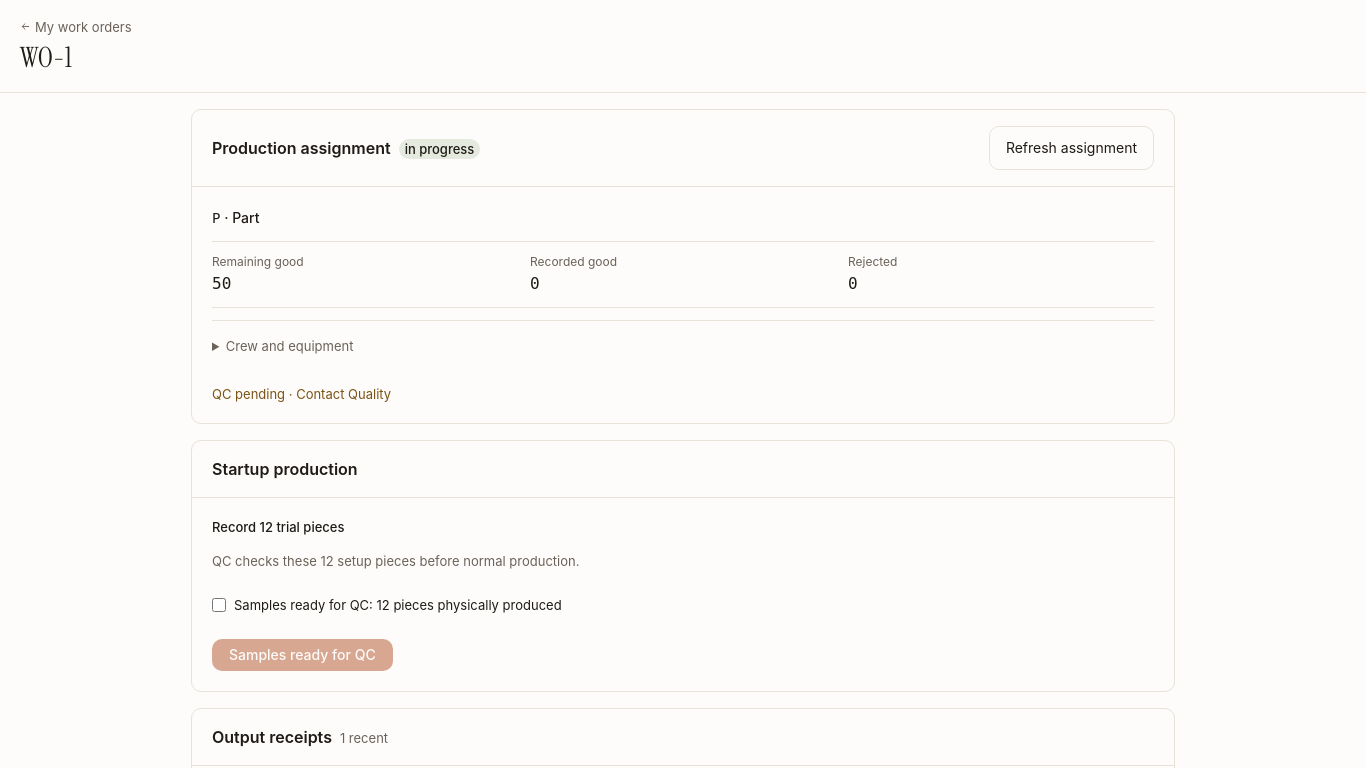
Test: worker output › lets the assigned trial recorder capture the pinned sample while normal output is blocked
Expected: the text "QC pending · Contact Quality" is shown, [212,386,391,402]
What coordinates should you click on to do the following:
click the checkbox labelled "Samples ready for QC: 12 pieces physically produced"
I would click on:
 (219, 605)
Its box is [212,598,226,612].
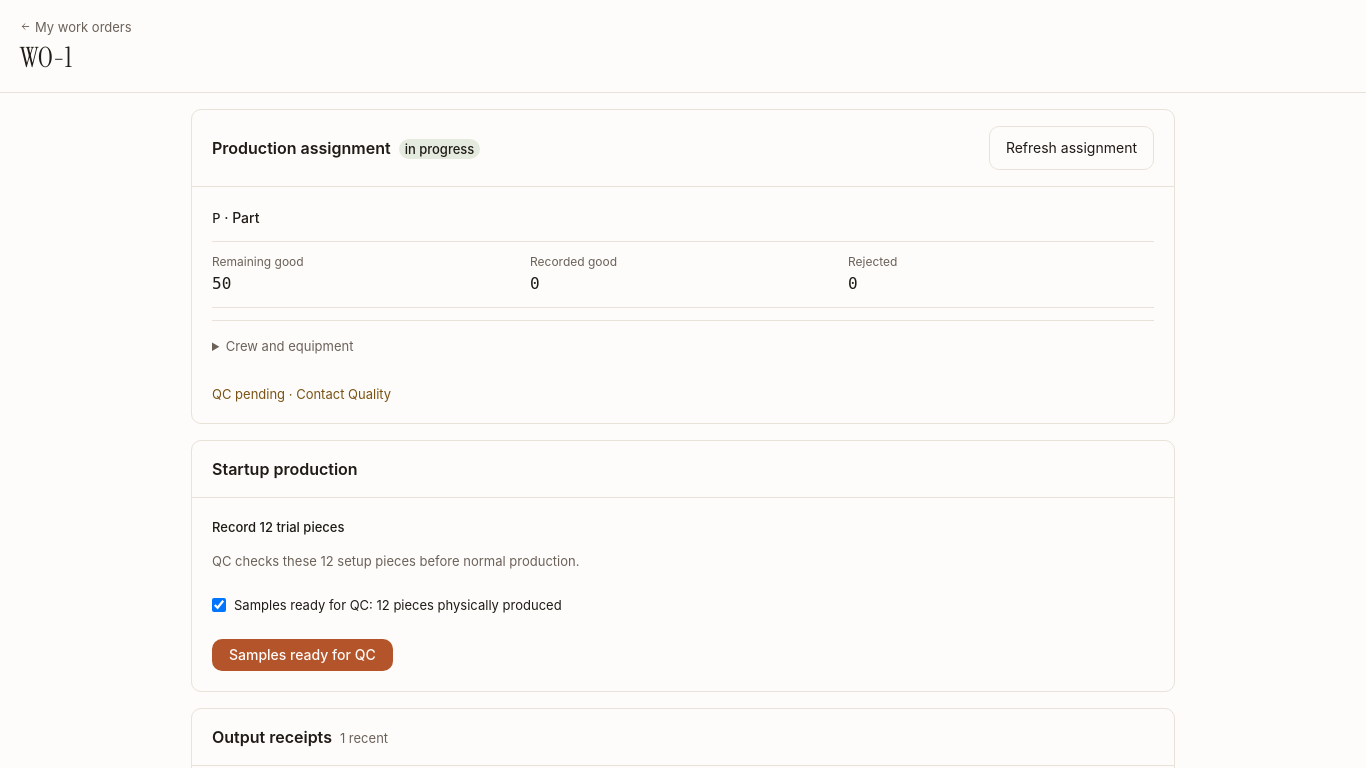
What coordinates should you click on to do the following:
click the button "Samples ready for QC"
I would click on:
 (302, 655)
Its box is [212,639,393,671].
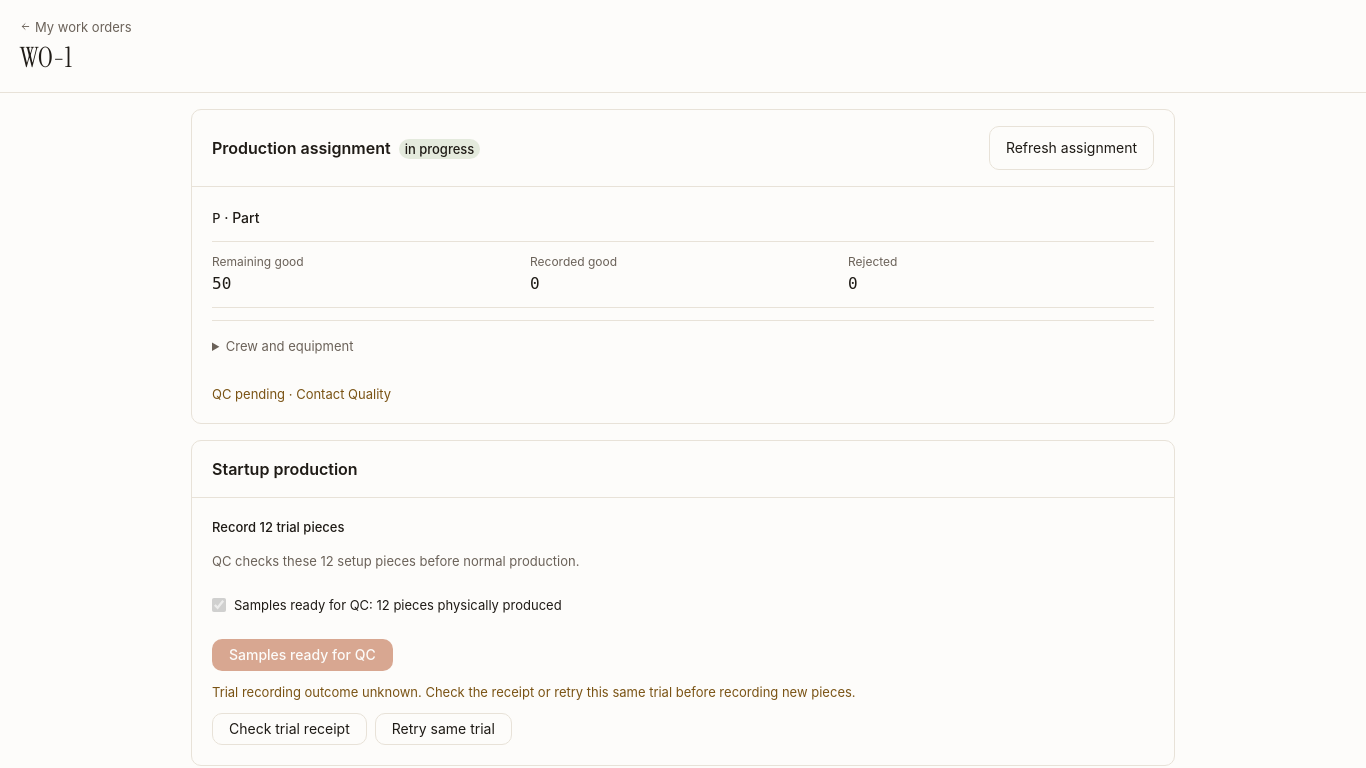
Result: the text "Trial recording outcome unknown" is shown at [212,684,856,700]
